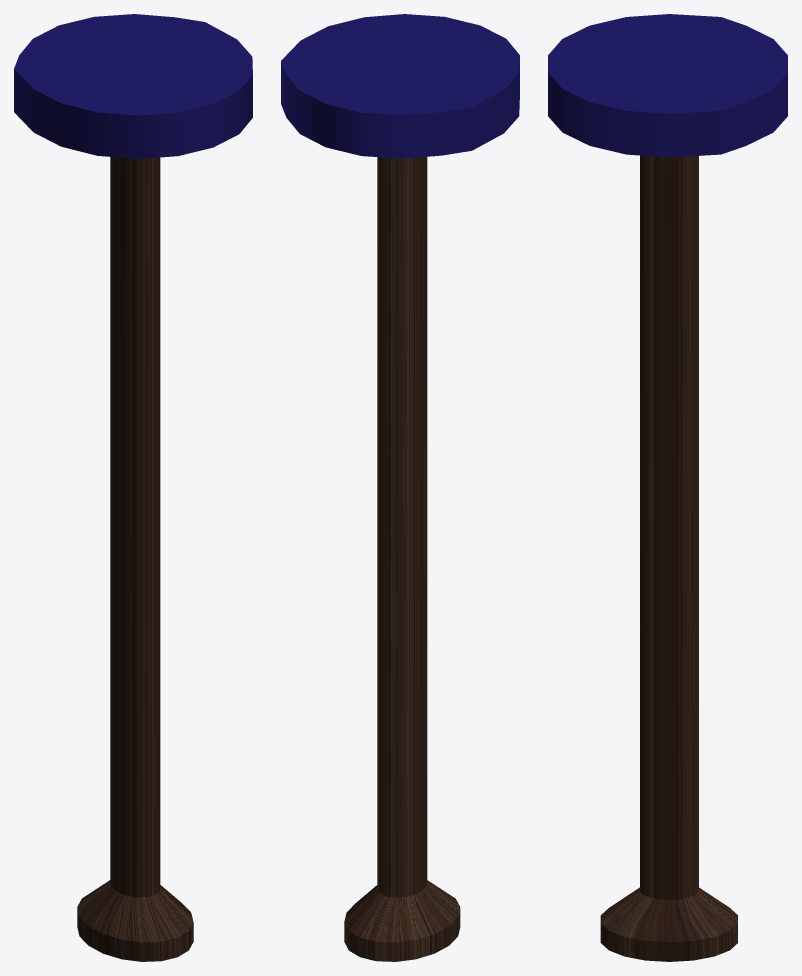
File: New_Bar_Stool_02.FBX
3 views of the same model, side by side, from view 1: azimuth 30°, elevation 25°; view 2: azimuth 150°, elevation 25°; view 3: azimuth 270°, elevation 25° (orthographic).
Visible parts, largest first — view 1: Bar Stool 3; view 2: Bar Stool 3; view 3: Bar Stool 3.
Part boxes in pixels (x1,y1,x2,y2): Bar Stool 3: [14, 14, 252, 961]; Bar Stool 3: [281, 14, 519, 961]; Bar Stool 3: [548, 14, 787, 961].
Bounding box in the file's own units: 11.68 × 47.71 × 11.85.
Materials: 2 (2 with a texture image).
